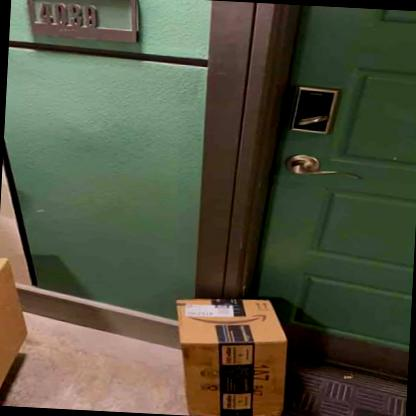box: (174, 298, 287, 415)
